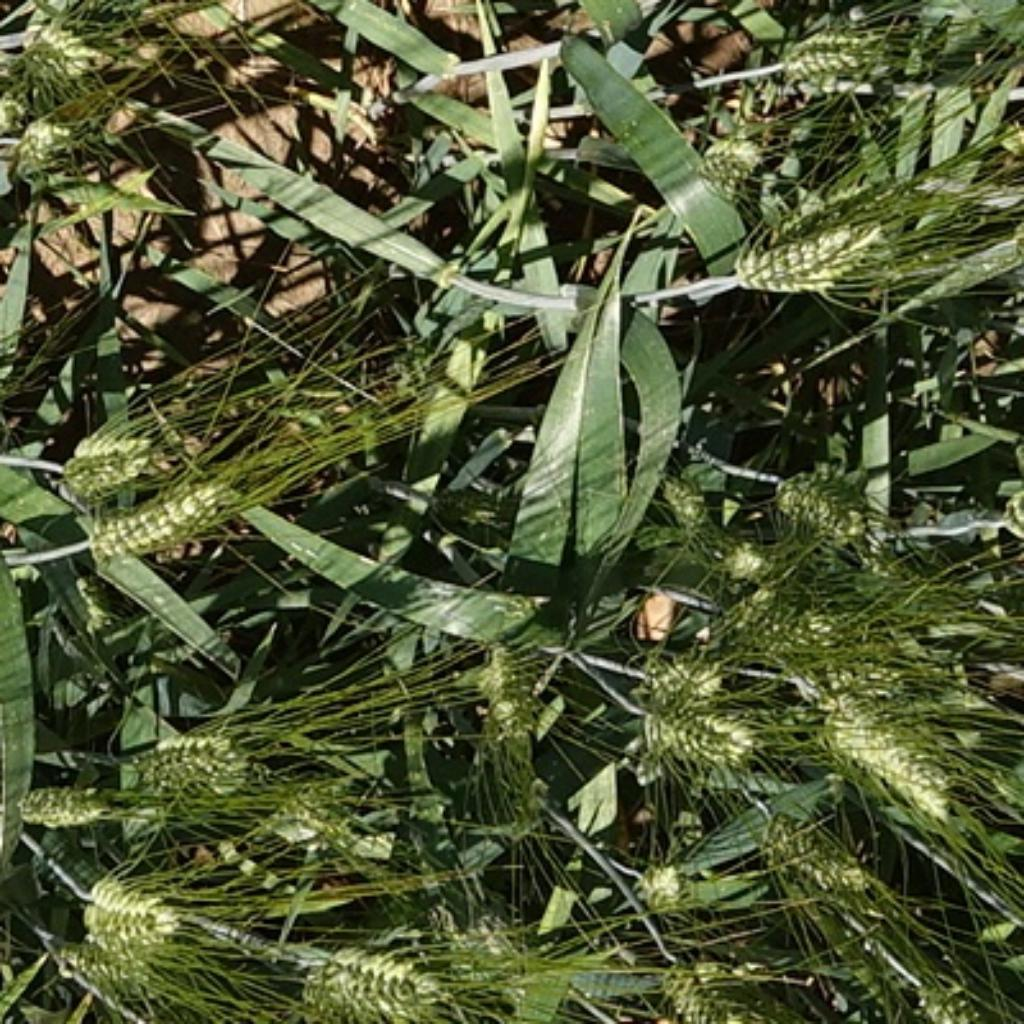0-0: (721, 181, 913, 299), (811, 675, 962, 816), (291, 931, 481, 1024), (79, 465, 243, 555), (768, 450, 896, 560), (115, 709, 258, 806), (744, 801, 875, 906), (64, 860, 202, 954), (253, 755, 376, 860), (724, 593, 878, 670), (493, 956, 686, 1012), (767, 21, 893, 100), (622, 709, 752, 780), (51, 414, 156, 496), (11, 13, 111, 97), (663, 945, 766, 1024), (471, 632, 550, 734), (43, 936, 176, 995), (903, 952, 1011, 1021), (7, 779, 119, 838), (642, 652, 755, 709), (688, 117, 762, 186), (7, 109, 87, 170), (627, 847, 693, 911), (657, 460, 714, 527), (716, 529, 780, 578), (0, 89, 39, 141)
